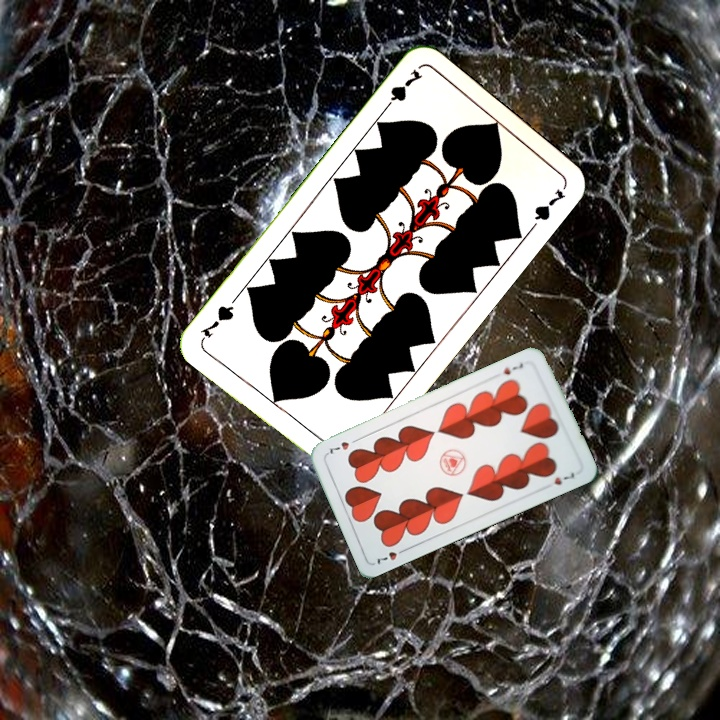G7: (378, 64, 426, 115)
H7: (373, 544, 410, 567), (500, 359, 526, 377)
